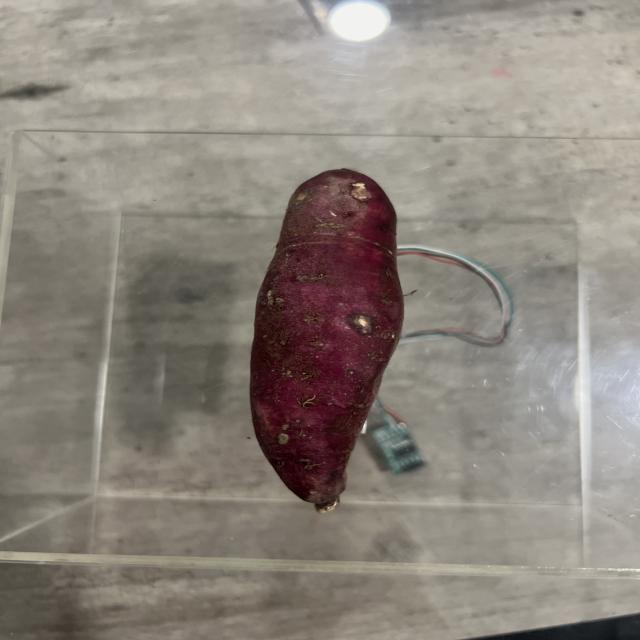sweet potato: (255, 170, 405, 502)
